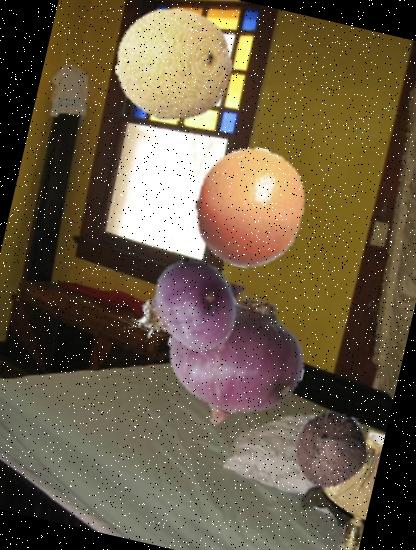Cantaloupe: (103, 0, 243, 134)
Cocos: (282, 402, 378, 499)
Grapefruit: (176, 134, 322, 280)
Onion: (151, 278, 318, 445), (106, 228, 262, 384)
Raspberry: (175, 306, 242, 372)
